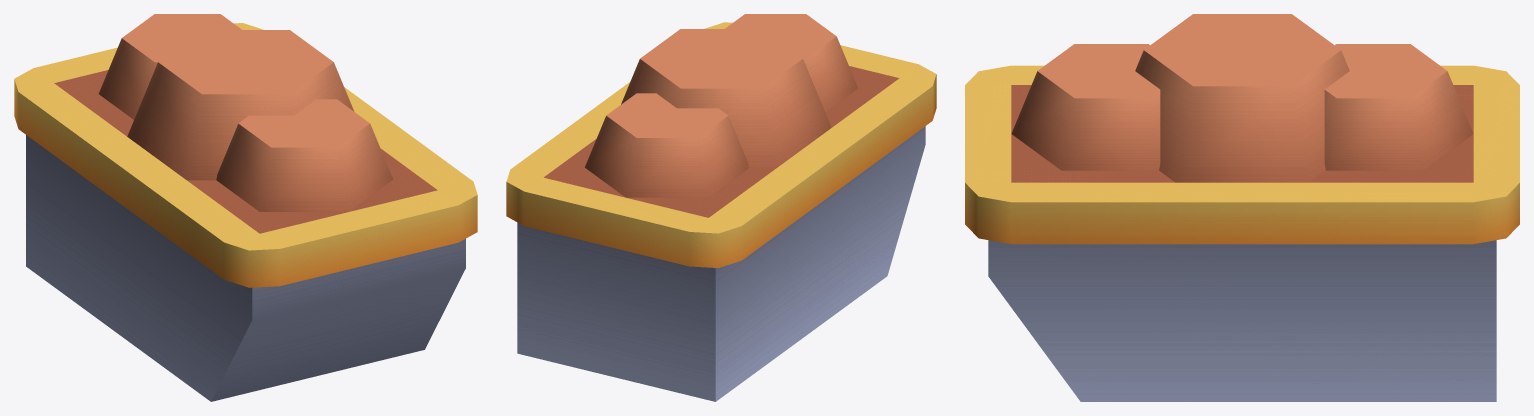
Rendered from kenney-space-station_skip-rocks.glb.
The picture shows the model from 3 angles, left to right: view 1: azimuth 30°, elevation 25°; view 2: azimuth 150°, elevation 25°; view 3: azimuth 270°, elevation 25°; orthographic projection. The views are drawn at different scales.
Parts seen in each view (by area): view 1: skip-rocks; view 2: skip-rocks; view 3: skip-rocks.
Boxes of the visible parts, left/top/right/bottom form: skip-rocks: left=14, top=14, right=477, bottom=401; skip-rocks: left=506, top=14, right=936, bottom=401; skip-rocks: left=965, top=14, right=1519, bottom=401.
Size of the model in its own units: 0.7 by 0.7 by 1.2.
Materials: 1 (1 with a texture image).
